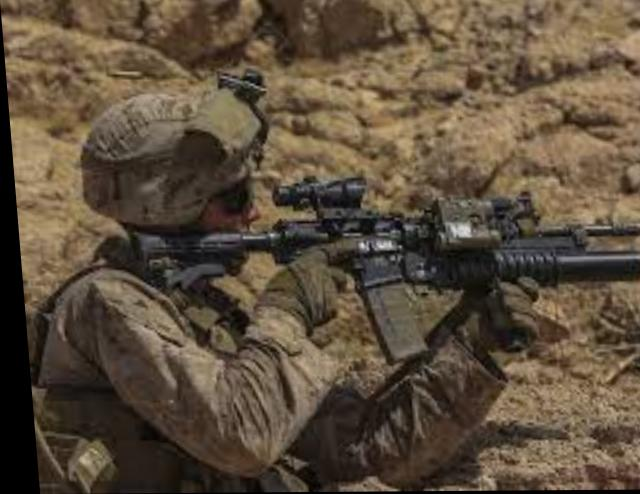other: (13, 71, 307, 489)
